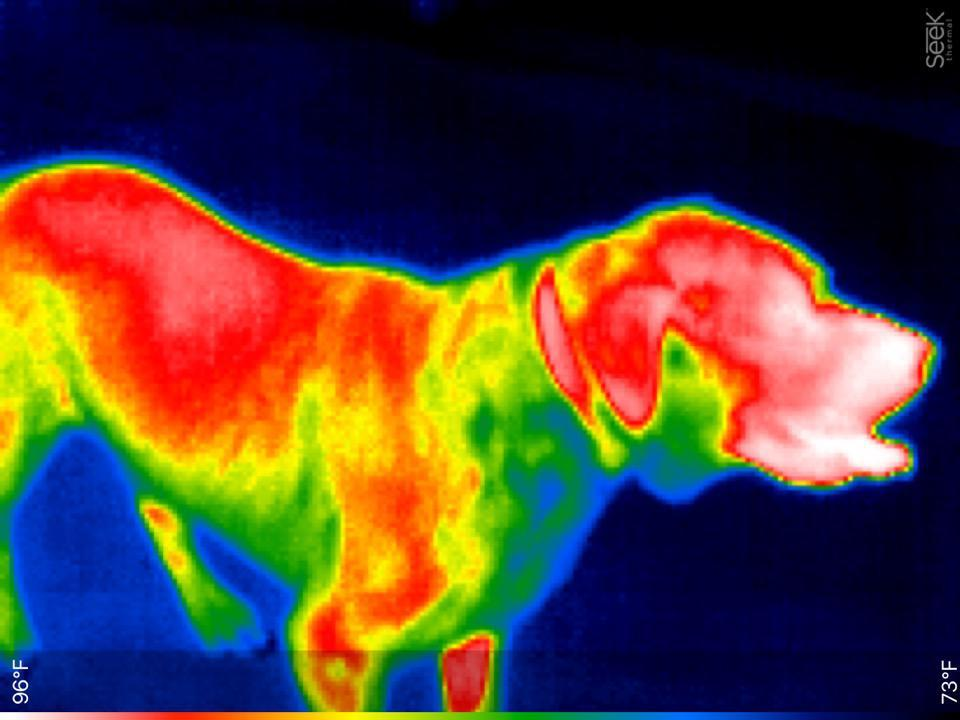dog: (1, 149, 936, 709)
